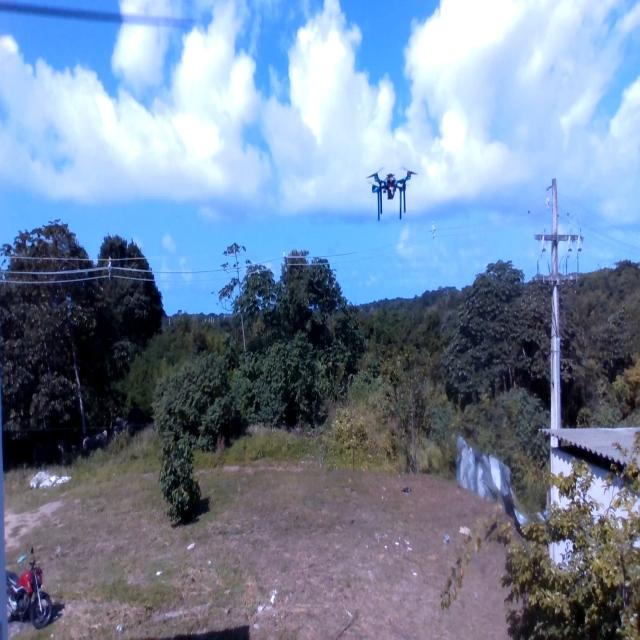-uav-: (358, 153, 422, 229)
